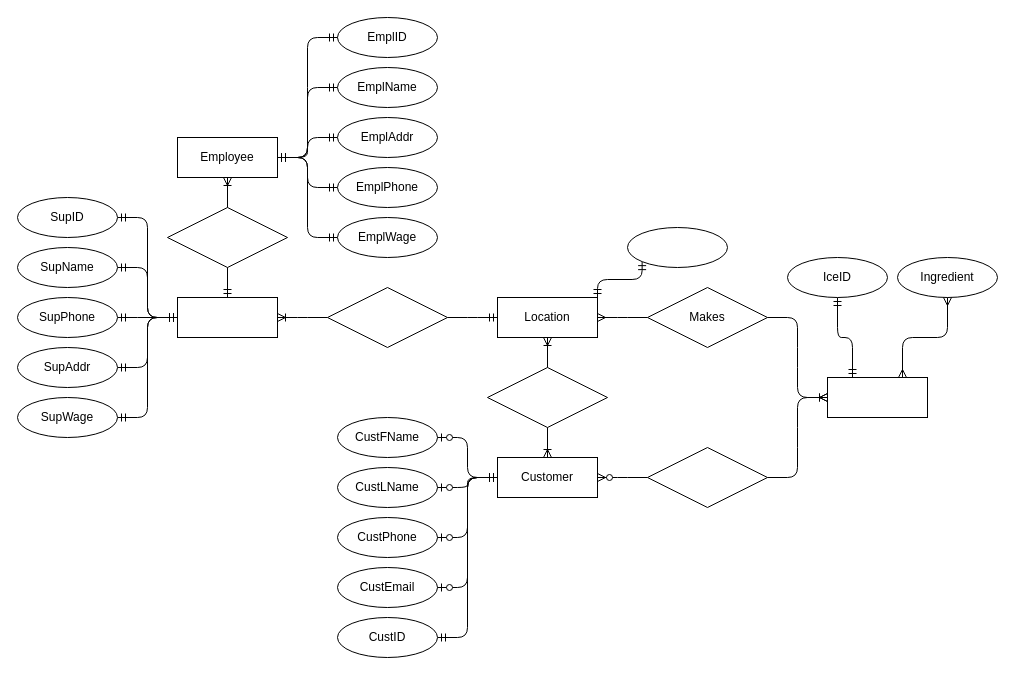
Image size: 1015x675. Some labels were removed from this diagram. Each missing label, with the centre of its shape:
Employs: (387,317)
Ice Cream Variety: (877,397)
LocID: (677,247)
Oversees: (227,237)
Purchases: (707,477)
Serves: (547,397)
Supervisor: (227,317)
